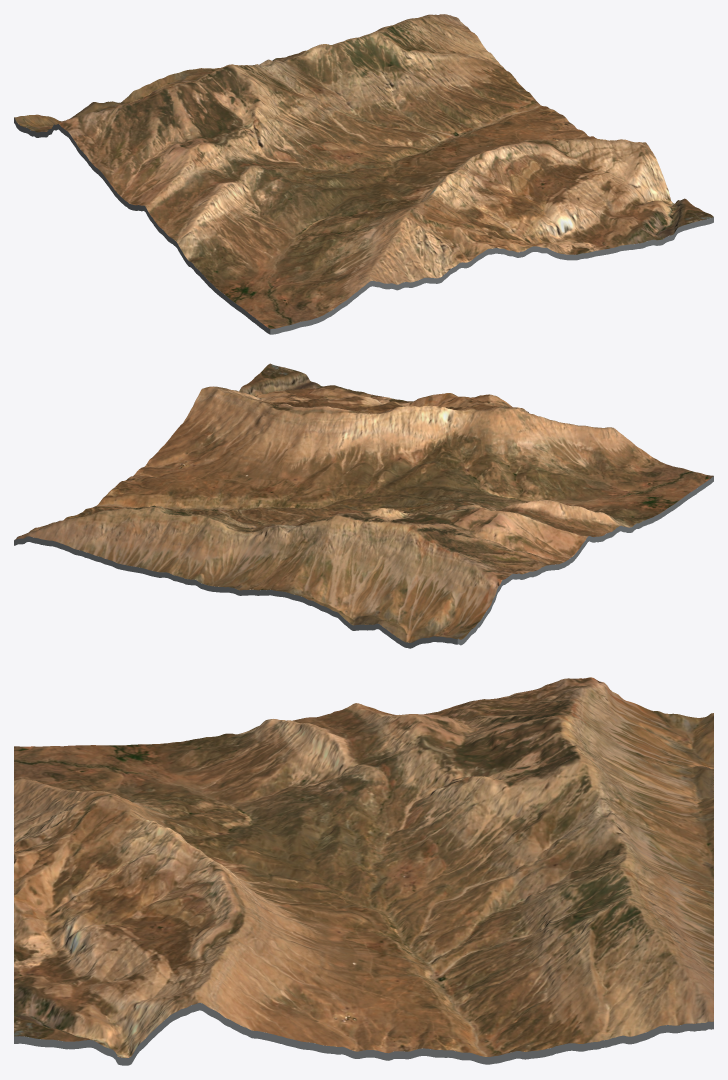
The picture shows the model from 3 angles, top to bottom: view 1: azimuth 30°, elevation 25°; view 2: azimuth 150°, elevation 25°; view 3: azimuth 270°, elevation 25°; orthographic projection. The views are drawn at different scales.
Visible parts, largest first — view 1: terrain, skirt; view 2: terrain, skirt; view 3: terrain, skirt.
Boxes of the visible parts, x1,y1,x2,y2 form: terrain: (14, 14, 713, 329); skirt: (14, 118, 713, 334); terrain: (15, 363, 713, 642); skirt: (14, 476, 713, 648); terrain: (14, 677, 713, 1058); skirt: (14, 1003, 713, 1065).
Size of the model in its own units: 7500 by 1448 by 7500.
Materials: 1 (1 with a texture image).
